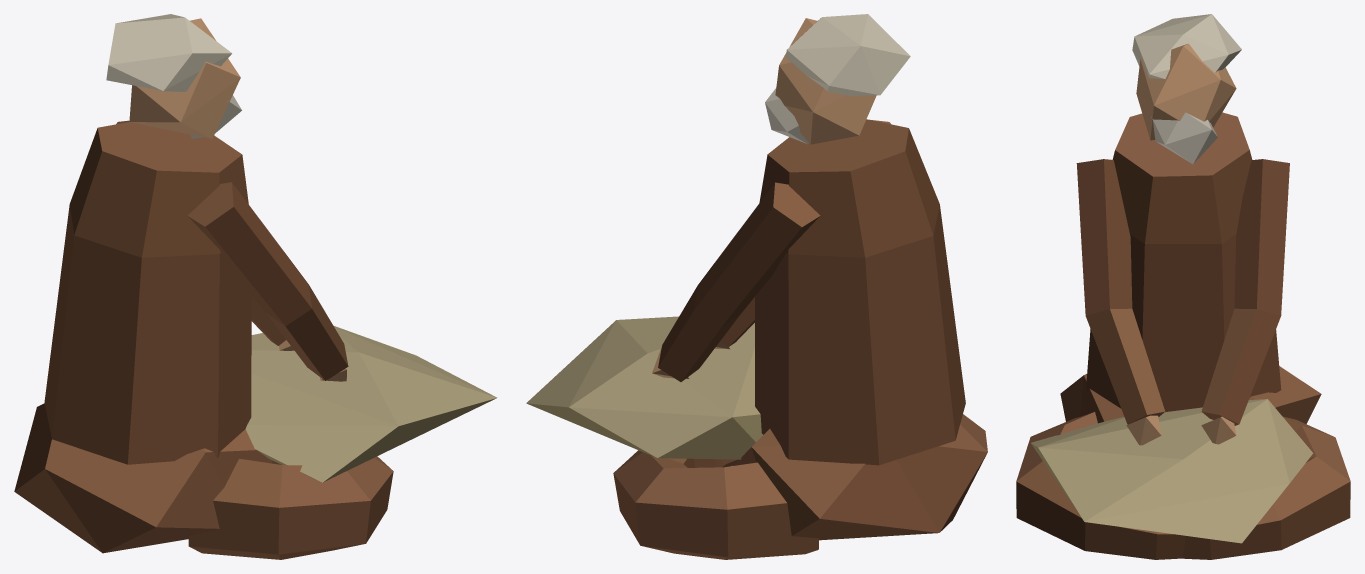
Rendered from mender.glb.
3 views of the same model, side by side, from view 1: azimuth 30°, elevation 25°; view 2: azimuth 150°, elevation 25°; view 3: azimuth 270°, elevation 25° (orthographic). The views are drawn at different scales.
Visible parts, largest first — view 1: base, arms_m; view 2: base, arms_m; view 3: base, arms_m.
Part boxes in pixels (x1=…): base: x1=14, y1=14, x2=497, y2=559; arms_m: x1=116, y1=120, x2=348, y2=381; base: x1=526, y1=14, x2=987, y2=559; arms_m: x1=652, y1=119, x2=890, y2=381; base: x1=1016, y1=14, x2=1350, y2=559; arms_m: x1=1076, y1=159, x2=1289, y2=445.
Bounding box in the file's own units: 0.3537 × 0.4121 × 0.2681.
